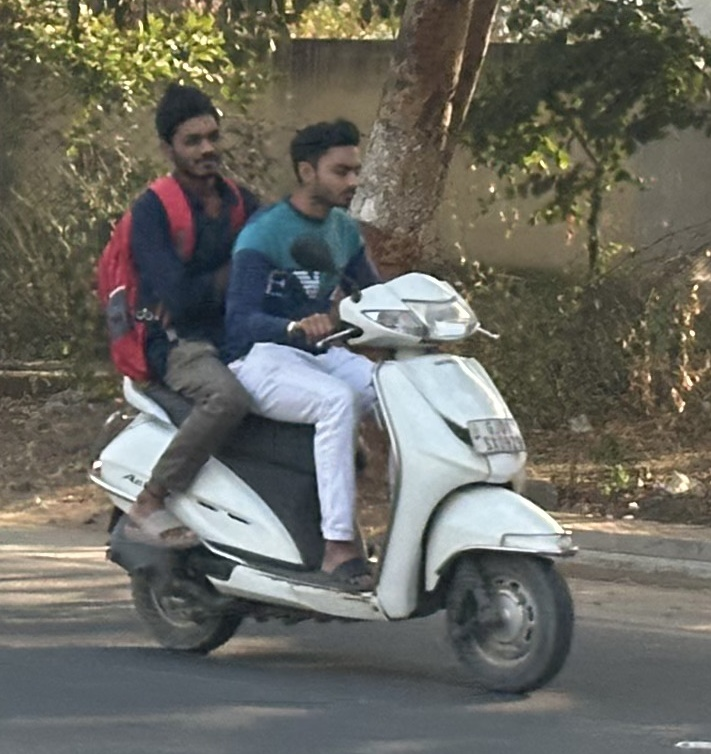BikeWithRider: (74, 70, 592, 702)
NoHelmet: (144, 76, 237, 185), (278, 111, 372, 217)
